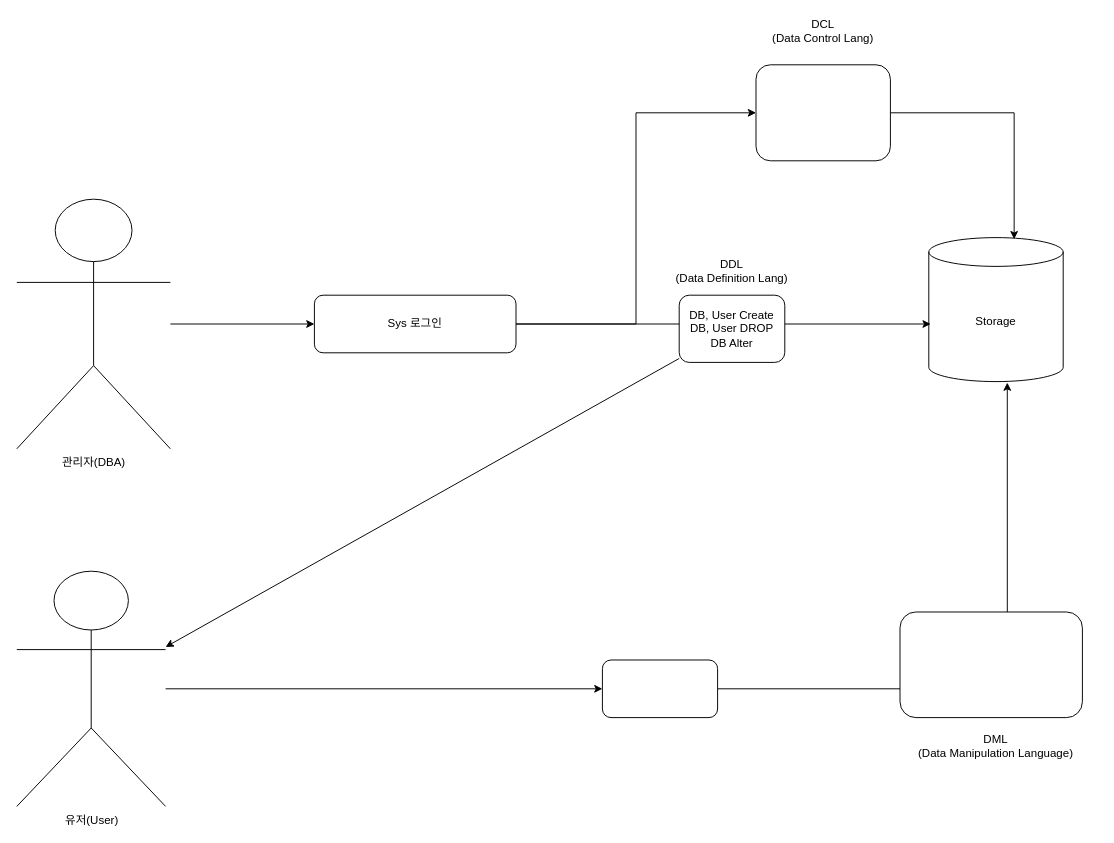
Some shapes in this 1114 by 843 pixel diagram are drawn without their labels. Each missing label, with the centre of its shape:
"CREATE : INSERT READ : SELECT UPDATE : UPDATE DELETE : DELTE" goes at point 990,664.
"GRANT REVOKE COMMT ROLL BACK" goes at point 822,112.
"User 로그인" goes at point 659,688.
